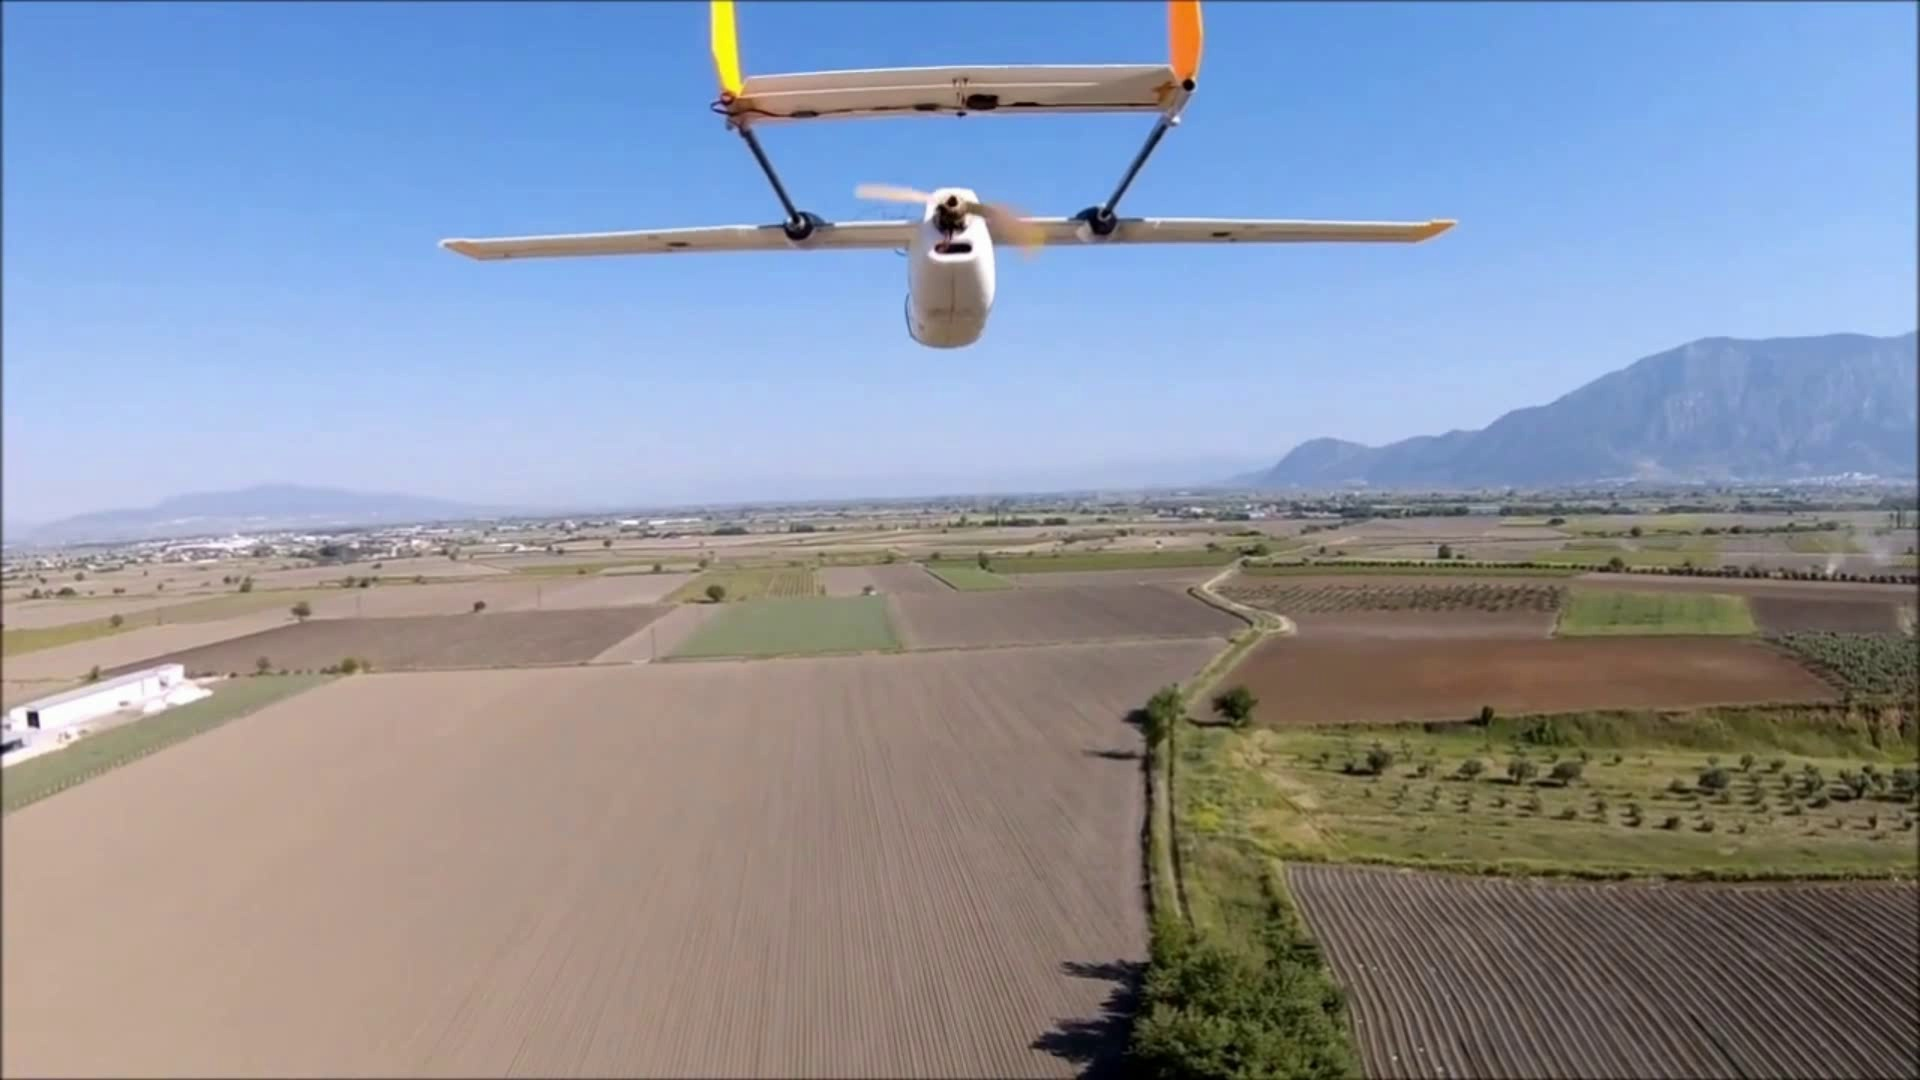airplane: (442, 5, 1452, 349)
